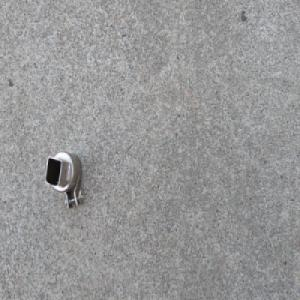MetalPart: (44, 150, 85, 212)
